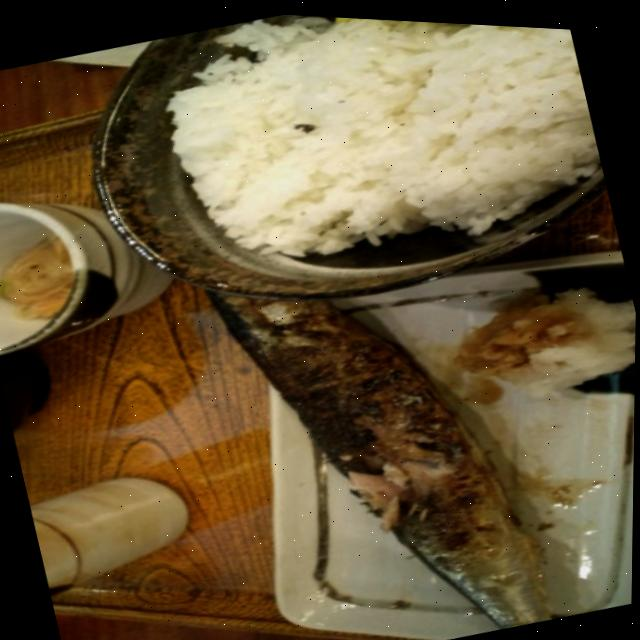米饭主食: (48, 2, 625, 371)
